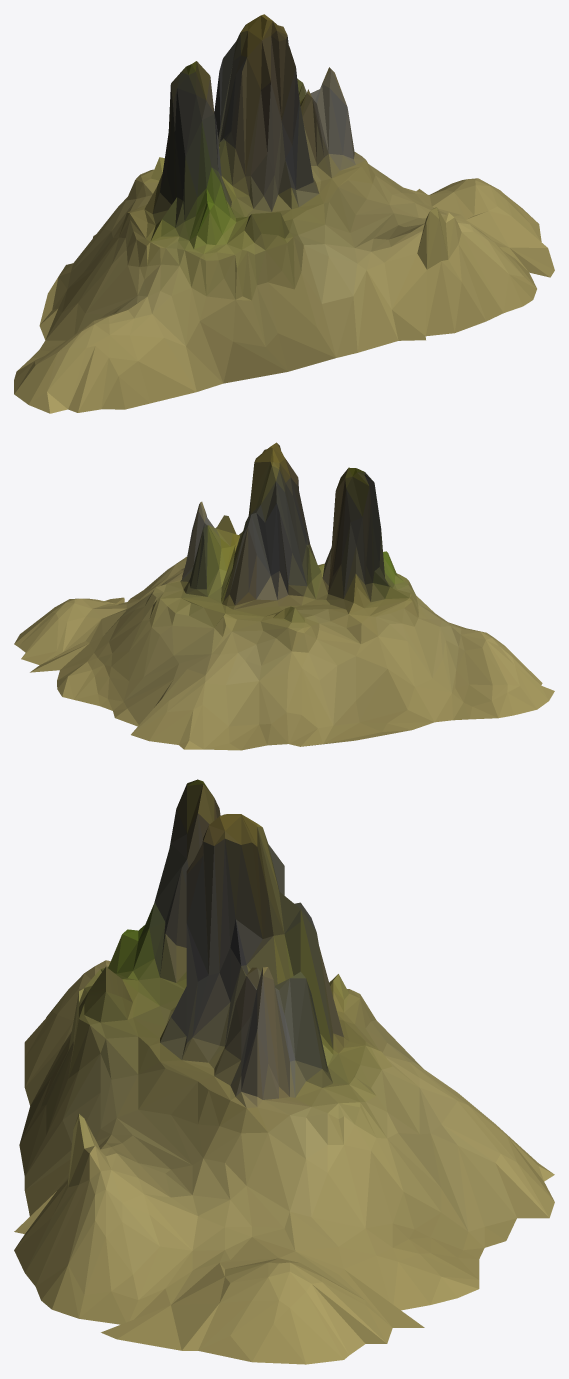
Rendered from Cliffs_D.fbx.
The picture shows the model from 3 angles, top to bottom: view 1: azimuth 30°, elevation 25°; view 2: azimuth 150°, elevation 25°; view 3: azimuth 270°, elevation 25°; orthographic projection. The views are drawn at different scales.
Parts seen in each view (by area): view 1: Cliffs_D; view 2: Cliffs_D; view 3: Cliffs_D.
Part boxes in pixels (box(x1,y1,x2,y2)): Cliffs_D: box(14, 14, 554, 413); Cliffs_D: box(14, 442, 554, 750); Cliffs_D: box(14, 779, 554, 1364).
Size of the model in its own units: 8000 by 3755 by 5000.
